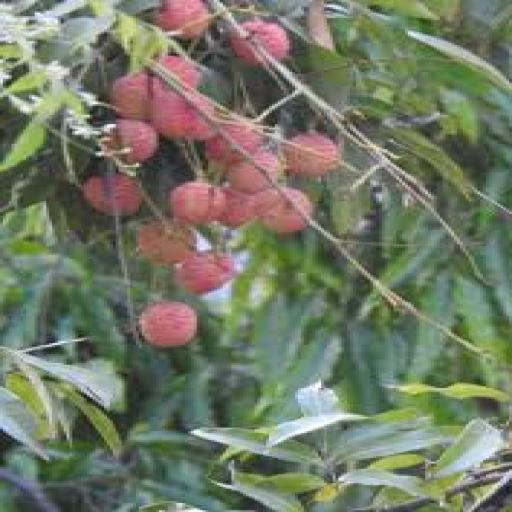lychee: (151, 83, 216, 140), (255, 187, 315, 233), (174, 252, 237, 294), (206, 119, 263, 165), (139, 220, 196, 264), (232, 20, 289, 64), (284, 133, 341, 177), (139, 302, 196, 346), (105, 119, 159, 165), (81, 175, 141, 215), (168, 182, 225, 224), (226, 150, 280, 194), (157, 0, 211, 39), (110, 72, 150, 120), (217, 187, 254, 228), (157, 56, 202, 88)
